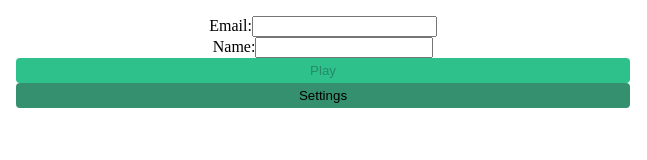
Teste Login › verifica a função handleChange
Type "abc" into the field with test id "input-player-name" at (344, 48), box [255,37,433,58]
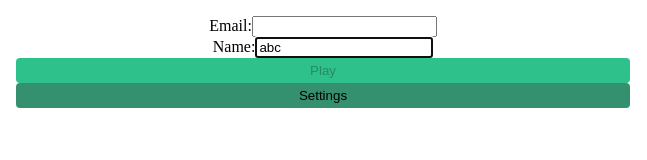
Type "abc@abc.com" into the field with test id "input-gravatar-email" at (344, 26), box [252,16,437,37]
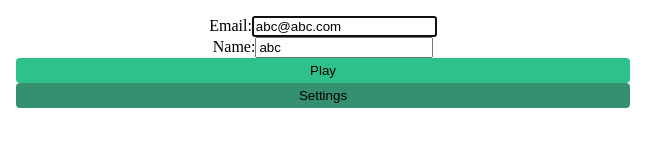
Expected: the button "Play" is enabled, [16,58,630,83]
